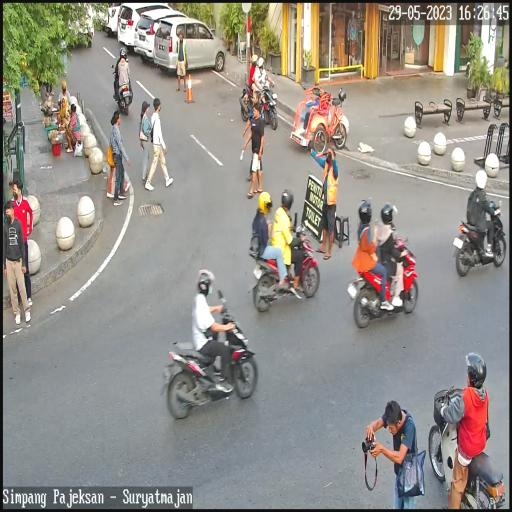mobil: (155, 18, 226, 73), (134, 9, 191, 55), (118, 2, 170, 52)
motor: (166, 292, 259, 421), (433, 378, 506, 507), (349, 230, 419, 332), (252, 222, 318, 313), (458, 195, 508, 276), (112, 63, 133, 117)
